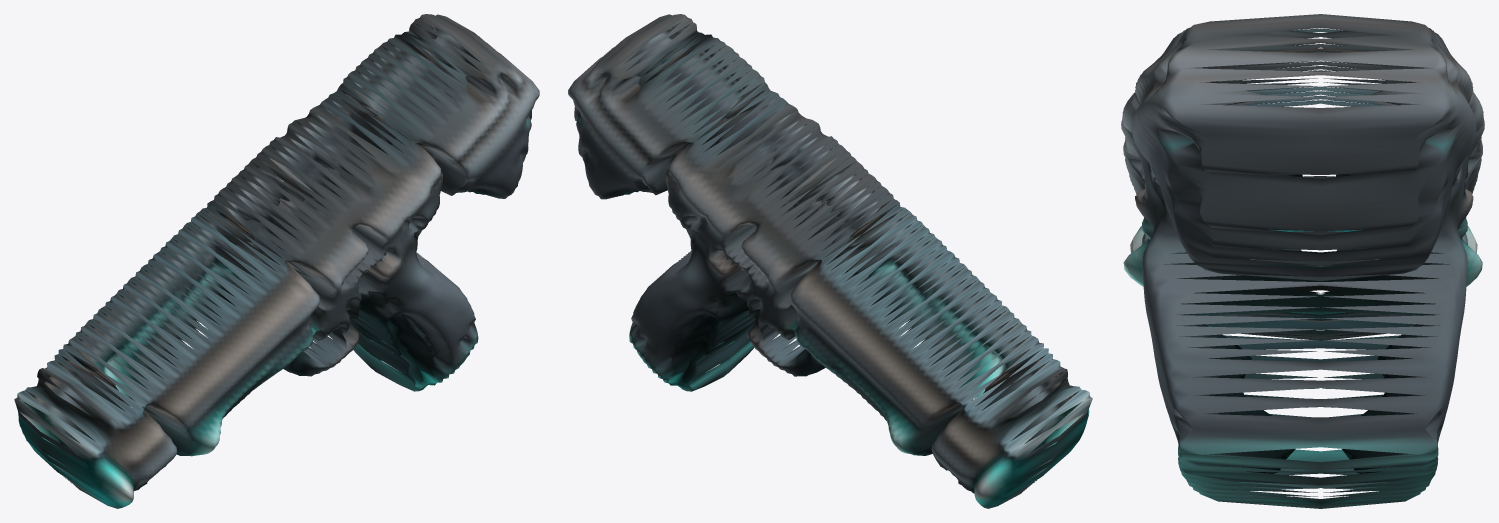
File: latest_model.obj
The picture shows the model from 3 angles, left to right: view 1: azimuth 30°, elevation 25°; view 2: azimuth 150°, elevation 25°; view 3: azimuth 270°, elevation 25°; orthographic projection. The views are drawn at different scales.
Parts seen in each view (by area): view 1: Asset3D; view 2: Asset3D; view 3: Asset3D.
Part boxes in pixels (x1=…): Asset3D: x1=14, y1=14, x2=539, y2=508; Asset3D: x1=568, y1=14, x2=1092, y2=508; Asset3D: x1=1121, y1=14, x2=1484, y2=508.
Size of the model in its own units: 1.43 by 1.08 by 0.5915.
